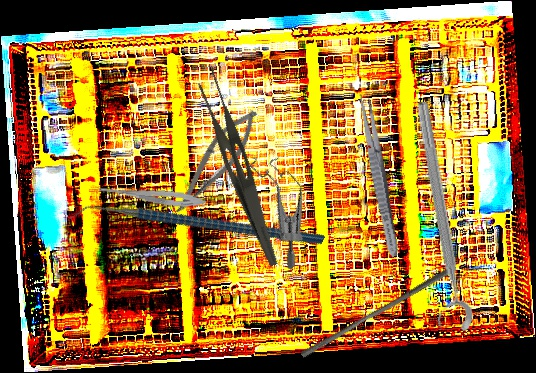Chopper: (68, 128, 326, 328)
Dressing Forceps: (185, 66, 300, 268), (354, 91, 403, 259)
Fixation Ring: (397, 99, 476, 337)
Micro Scissor: (166, 99, 267, 226), (93, 183, 207, 210)
Pusher: (299, 258, 458, 364)
Speculum: (217, 143, 341, 272)
